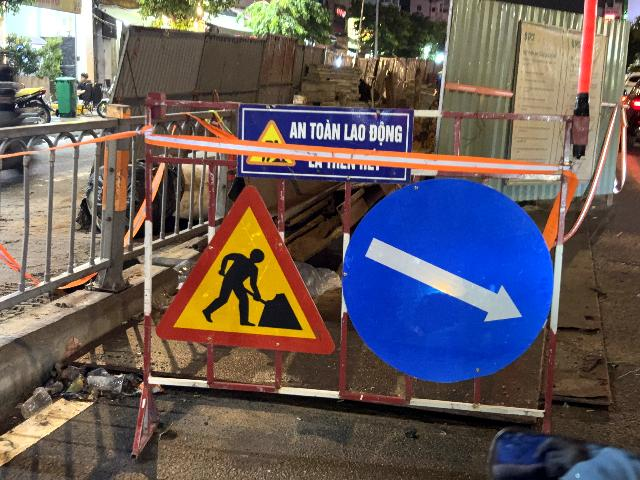cong-truong-dang-thi-cong: (156, 184, 335, 356)
huong-phai-di-vong-chuong-ngai-vat: (340, 177, 555, 384)
